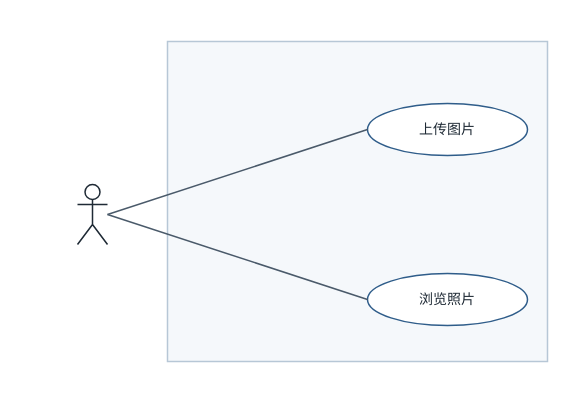
Image size: 588x402. Some labels were removed from this diagram. Here are the shapes that lost their labels. From the top down, the box of each, then its label:
(76, 183, 108, 245): 普通用户
(166, 40, 548, 362): 电子相册系统
